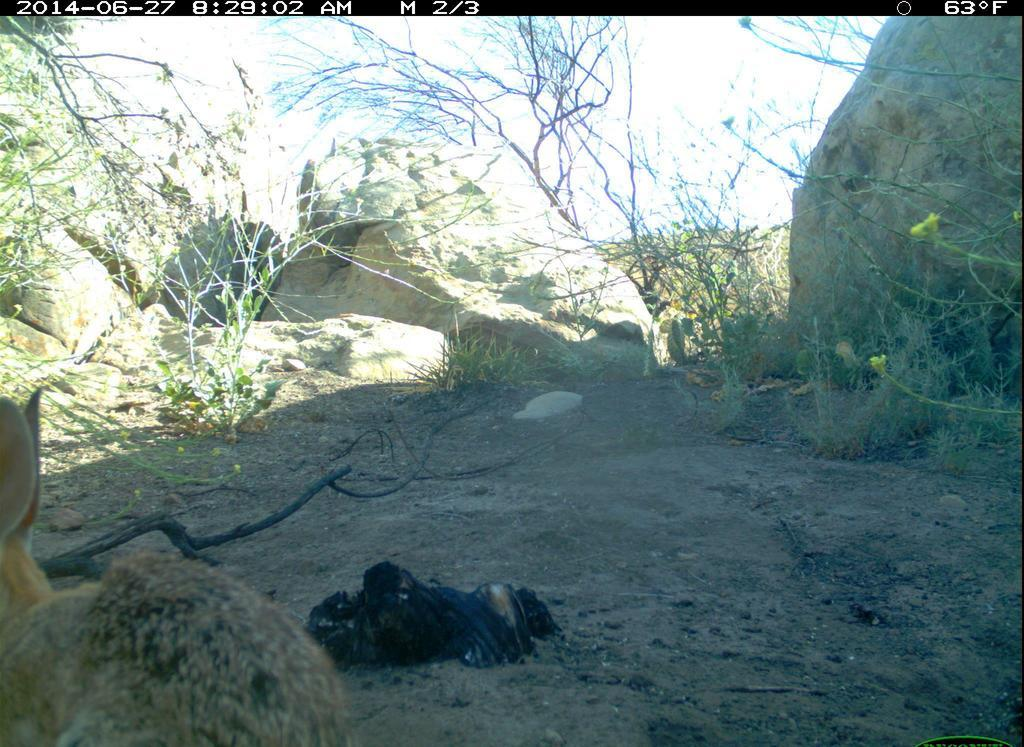rabbit: (2, 383, 365, 747)
